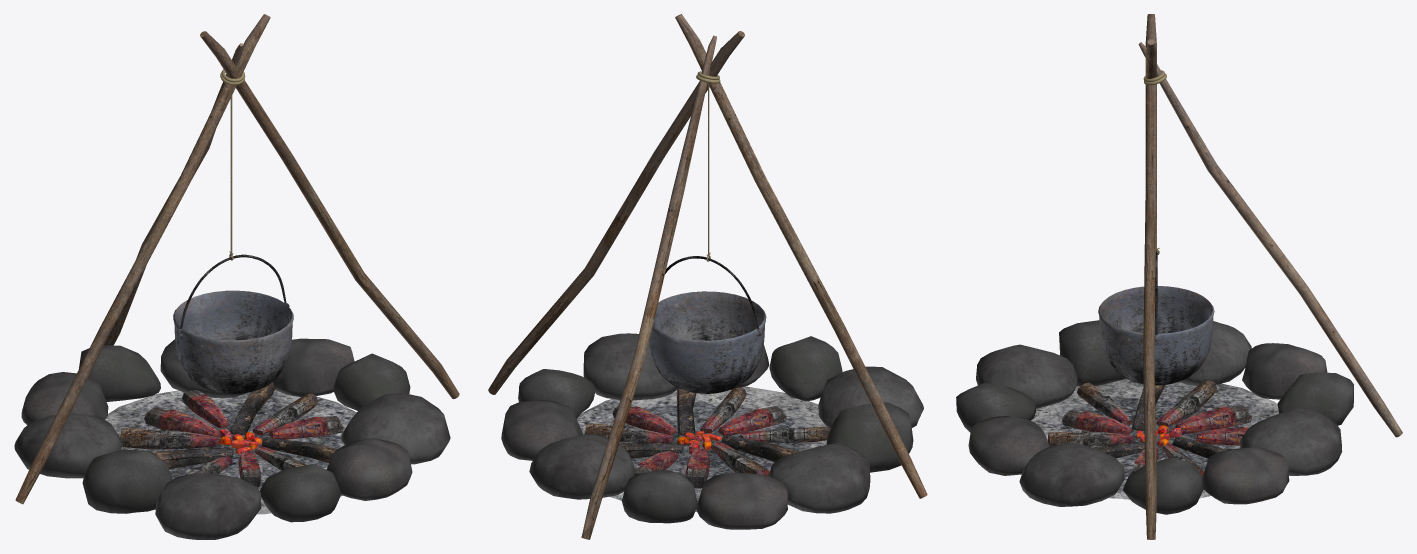
File: campfire.obj
3 renders of one model, left to right at view 1: azimuth 30°, elevation 25°; view 2: azimuth 150°, elevation 25°; view 3: azimuth 270°, elevation 25°, orthographic. The views are drawn at different scales.
Visible parts, largest first — view 1: campfire; view 2: campfire; view 3: campfire.
Part boxes in pixels (<box>): campfire: <box>14,14,459,539</box>; campfire: <box>488,14,927,539</box>; campfire: <box>956,14,1402,539</box>.
Bounding box in the file's own units: 2.76 × 2.57 × 2.51.
Materials: 3 (3 with a texture image).
